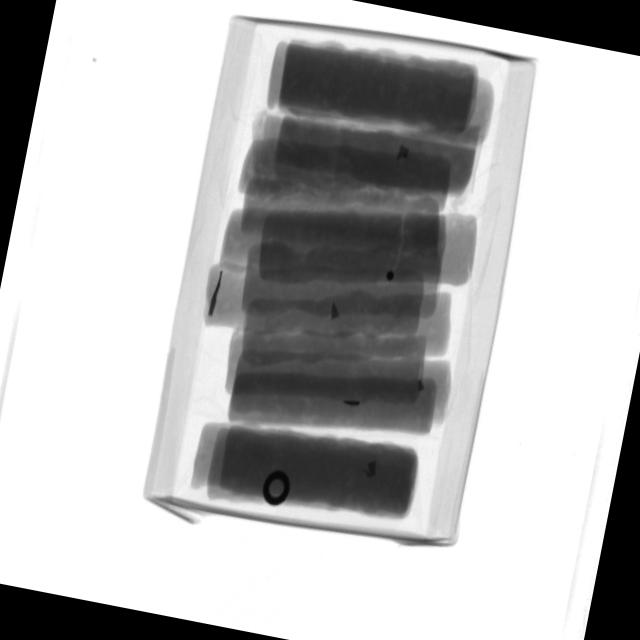ym: (262, 470, 294, 509), (207, 270, 224, 319), (363, 459, 379, 482), (396, 142, 412, 164), (329, 300, 343, 323), (344, 397, 363, 411), (417, 376, 428, 394), (387, 270, 397, 281)
